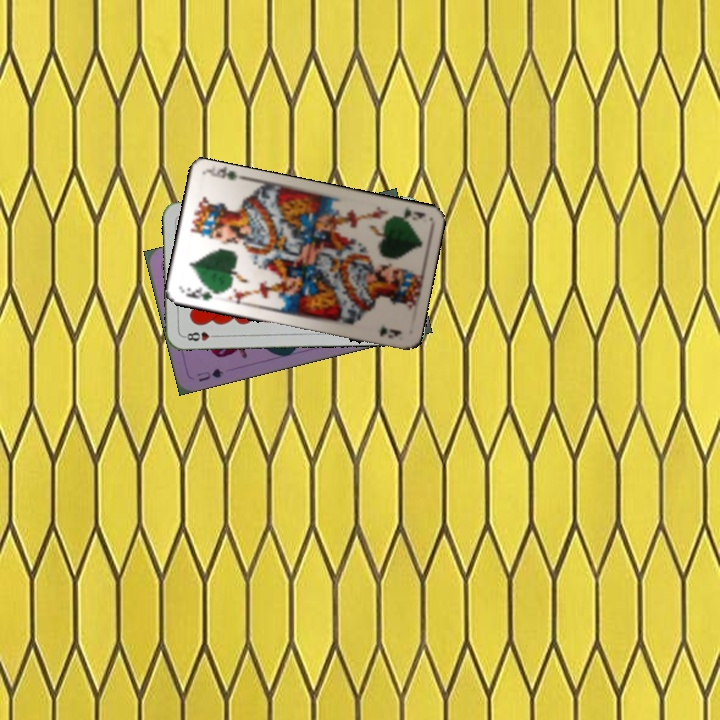GK: (180, 283, 221, 304), (388, 203, 428, 224)
GU: (193, 364, 226, 384)
H8: (180, 328, 221, 343)
